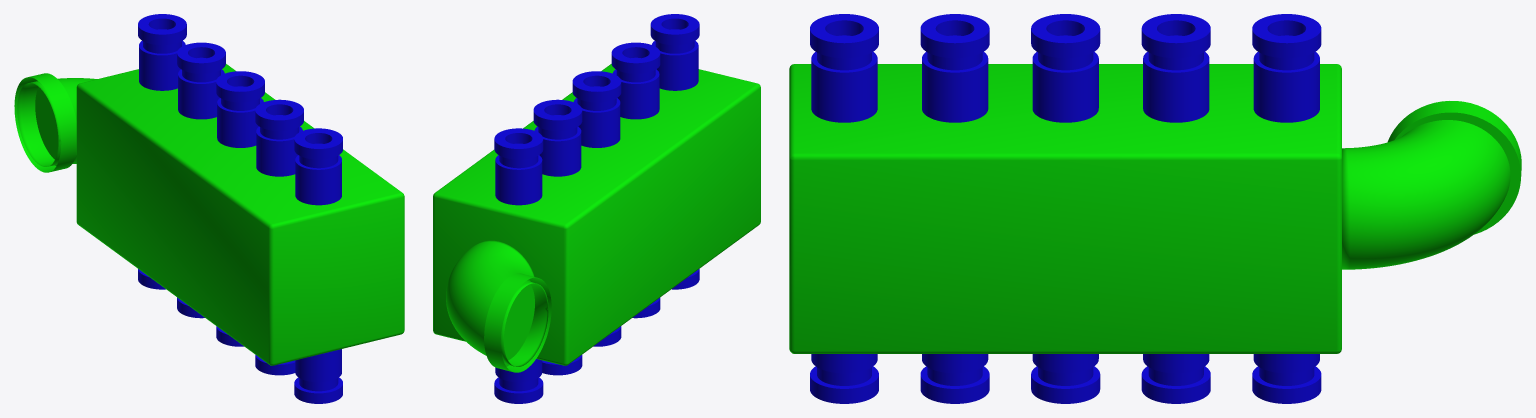
The model's file is AirDispenser.fbx.
3 views of the same model, side by side, from view 1: azimuth 30°, elevation 25°; view 2: azimuth 150°, elevation 25°; view 3: azimuth 270°, elevation 25° (orthographic). The views are drawn at different scales.
Parts seen in each view (by area): view 1: AirDispenser, RacorA, RacorB, RacorC, RacorD, RacorE, RacorF, RacorG; view 2: AirDispenser, RacorE, RacorB, RacorD, RacorA, RacorC, RacorJ, RacorI; view 3: AirDispenser, RacorB, RacorC, RacorD, RacorE, RacorA, RacorG, RacorJ, RacorI, RacorH, RacorF.
Part boxes in pixels (x1=…): AirDispenser: x1=14, y1=64, x2=404, y2=365; RacorA: x1=294, y1=128, x2=342, y2=205; RacorB: x1=255, y1=99, x2=303, y2=176; RacorC: x1=216, y1=71, x2=264, y2=147; RacorD: x1=177, y1=42, x2=225, y2=119; RacorE: x1=138, y1=14, x2=186, y2=90; RacorF: x1=294, y1=349, x2=342, y2=403; RacorG: x1=255, y1=355, x2=295, y2=375; AirDispenser: x1=433, y1=64, x2=760, y2=372; RacorE: x1=494, y1=128, x2=543, y2=205; RacorB: x1=611, y1=42, x2=660, y2=119; RacorD: x1=533, y1=99, x2=582, y2=176; RacorA: x1=650, y1=14, x2=699, y2=90; RacorC: x1=572, y1=71, x2=621, y2=147; RacorJ: x1=494, y1=359, x2=543, y2=403; RacorI: x1=542, y1=355, x2=582, y2=375; AirDispenser: x1=789, y1=64, x2=1521, y2=353; RacorB: x1=920, y1=14, x2=989, y2=122; RacorC: x1=1031, y1=14, x2=1100, y2=122; RacorD: x1=1141, y1=14, x2=1210, y2=122; RacorE: x1=1252, y1=14, x2=1321, y2=122; RacorA: x1=810, y1=14, x2=878, y2=122; RacorG: x1=920, y1=354, x2=989, y2=403; RacorJ: x1=1252, y1=354, x2=1321, y2=403; RacorI: x1=1141, y1=354, x2=1210, y2=403; RacorH: x1=1031, y1=354, x2=1100, y2=403; RacorF: x1=810, y1=354, x2=878, y2=403.
Size of the model in its own units: 0.4 by 0.72 by 1.32.
